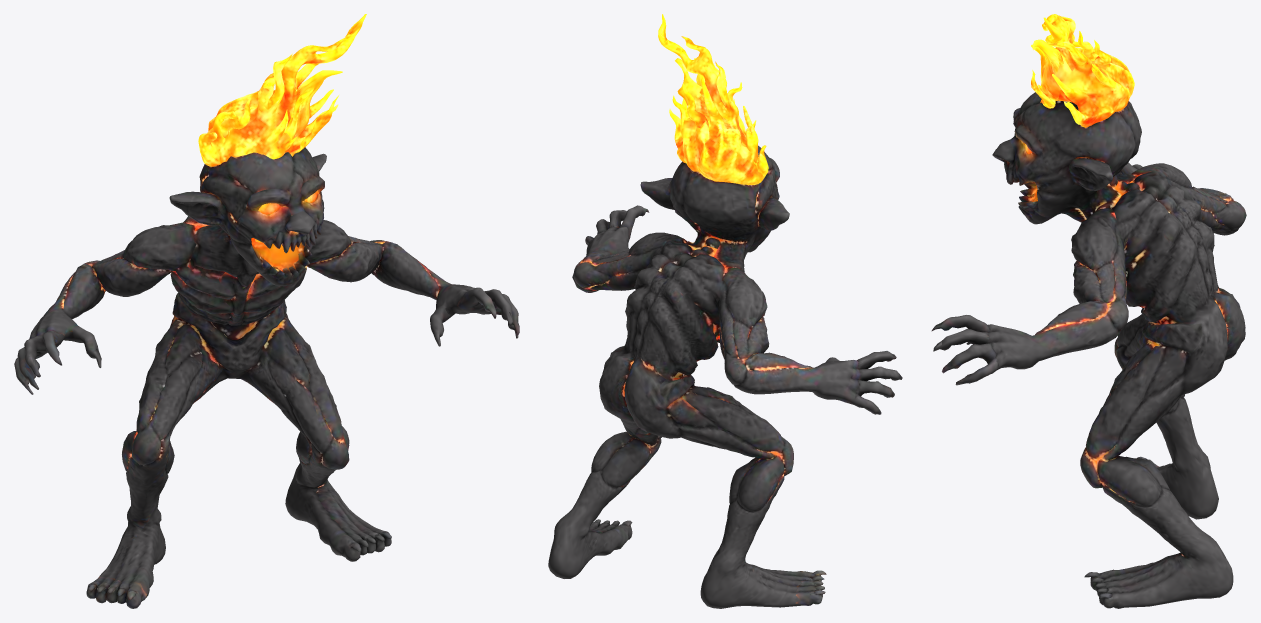
File: MZ4250 - Magmin_1 2025.glb
3 renders of one model, left to right at view 1: azimuth 30°, elevation 25°; view 2: azimuth 150°, elevation 25°; view 3: azimuth 270°, elevation 25°, orthographic. The views are drawn at different scales.
Visible parts, largest first — view 1: Body.002; view 2: Body.002; view 3: Body.002.
Boxes of the visible parts, left/top/right/bottom form: Body.002: left=14, top=14, right=519, bottom=608; Body.002: left=548, top=14, right=902, bottom=608; Body.002: left=931, top=14, right=1246, bottom=608.
Bounding box in the file's own units: 57.7 × 75.72 × 38.06.
2 materials, 2 textured.
